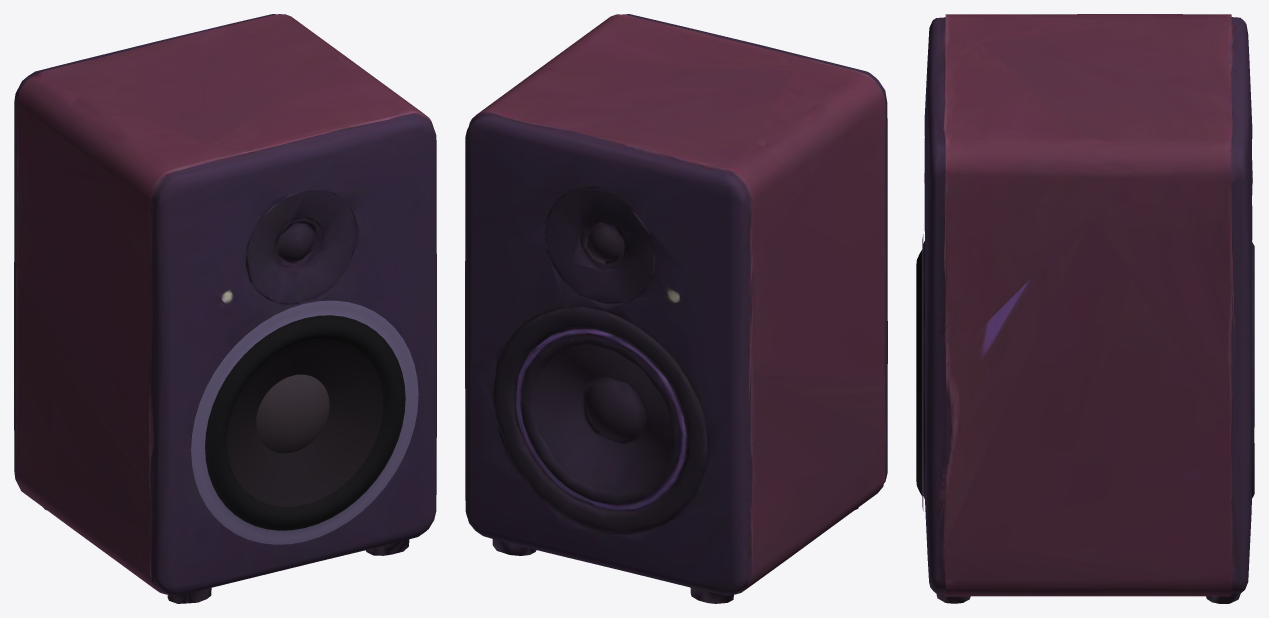
Rendered from speaker.glb.
3 views of the same model, side by side, from view 1: azimuth 30°, elevation 25°; view 2: azimuth 150°, elevation 25°; view 3: azimuth 270°, elevation 25° (orthographic). The views are drawn at different scales.
Visible parts, largest first — view 1: box, woofer; view 2: box; view 3: box, woofer.
Boxes of the visible parts, x1,y1,x2,y2 form: box: (14, 14, 436, 603); woofer: (191, 300, 418, 544); box: (465, 14, 887, 603); box: (923, 14, 1254, 603); woofer: (916, 234, 923, 511).
Bounding box in the file's own units: 0.2332 × 0.3397 × 0.2241.
2 materials, 2 textured.
